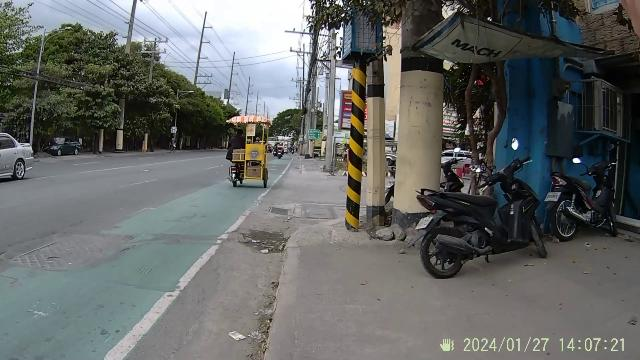motorcycle: (421, 148, 542, 284), (538, 157, 624, 243)
street_vendor_cart: (240, 114, 272, 187)
utility_post: (342, 9, 446, 235)
